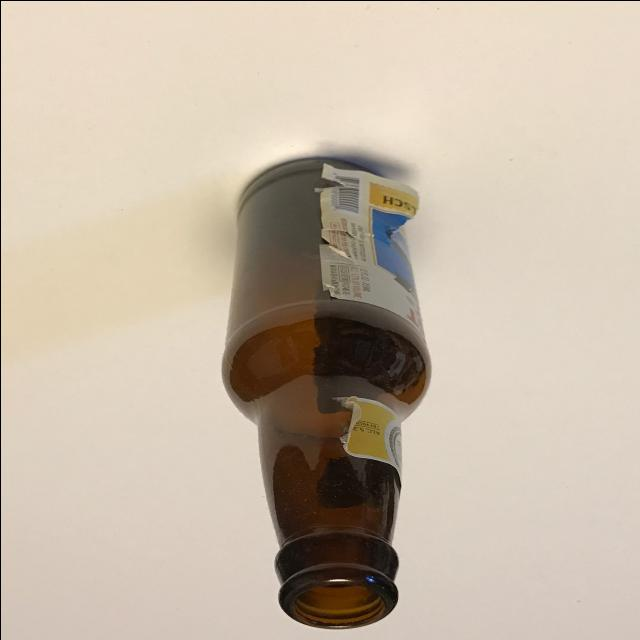glass: (121, 135, 471, 632)
